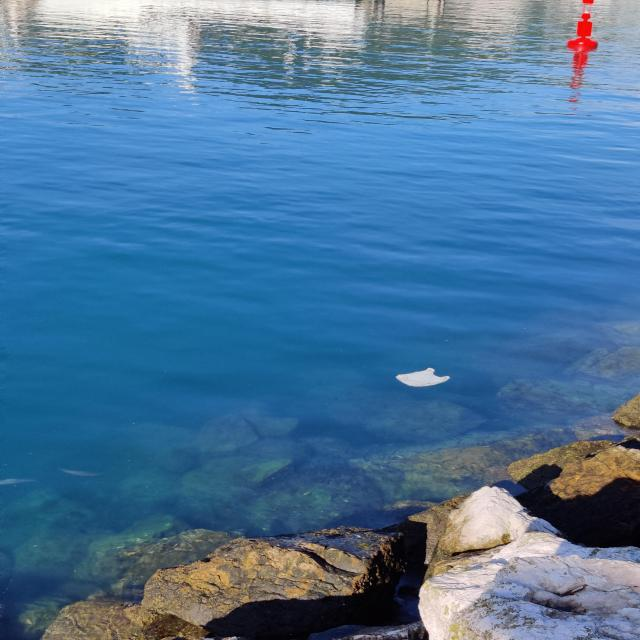litter: (393, 366, 451, 388)
